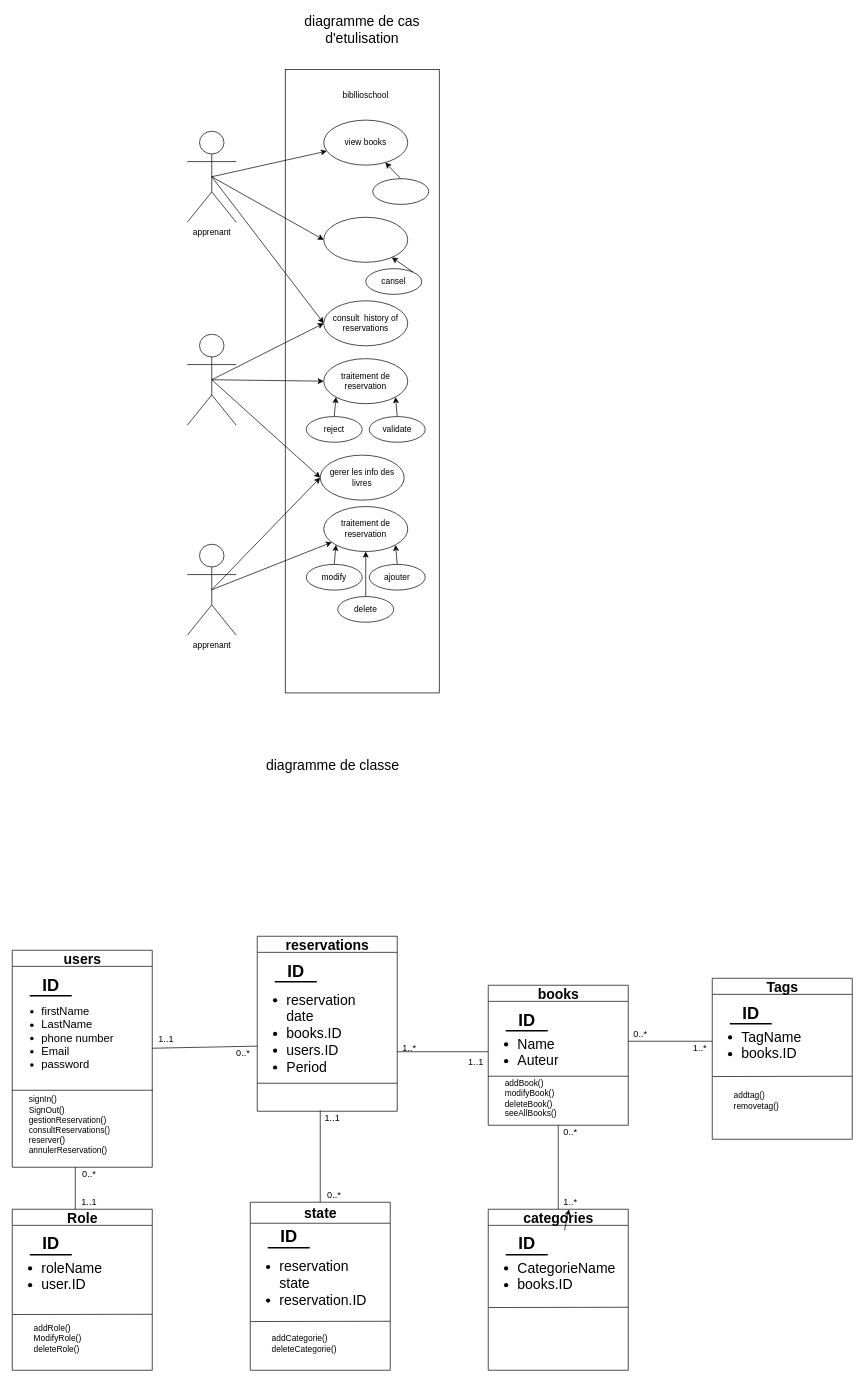
The diagram is 865 pixels wide and 1383 high, and some of its shapes have lost their labels. The shapes that lost their labels are listed below. From the top down, each one's centre as x and y in pixels, then its label:
[400,191]: filter books
[365,239]: reserve books
[211,379]: gérant
